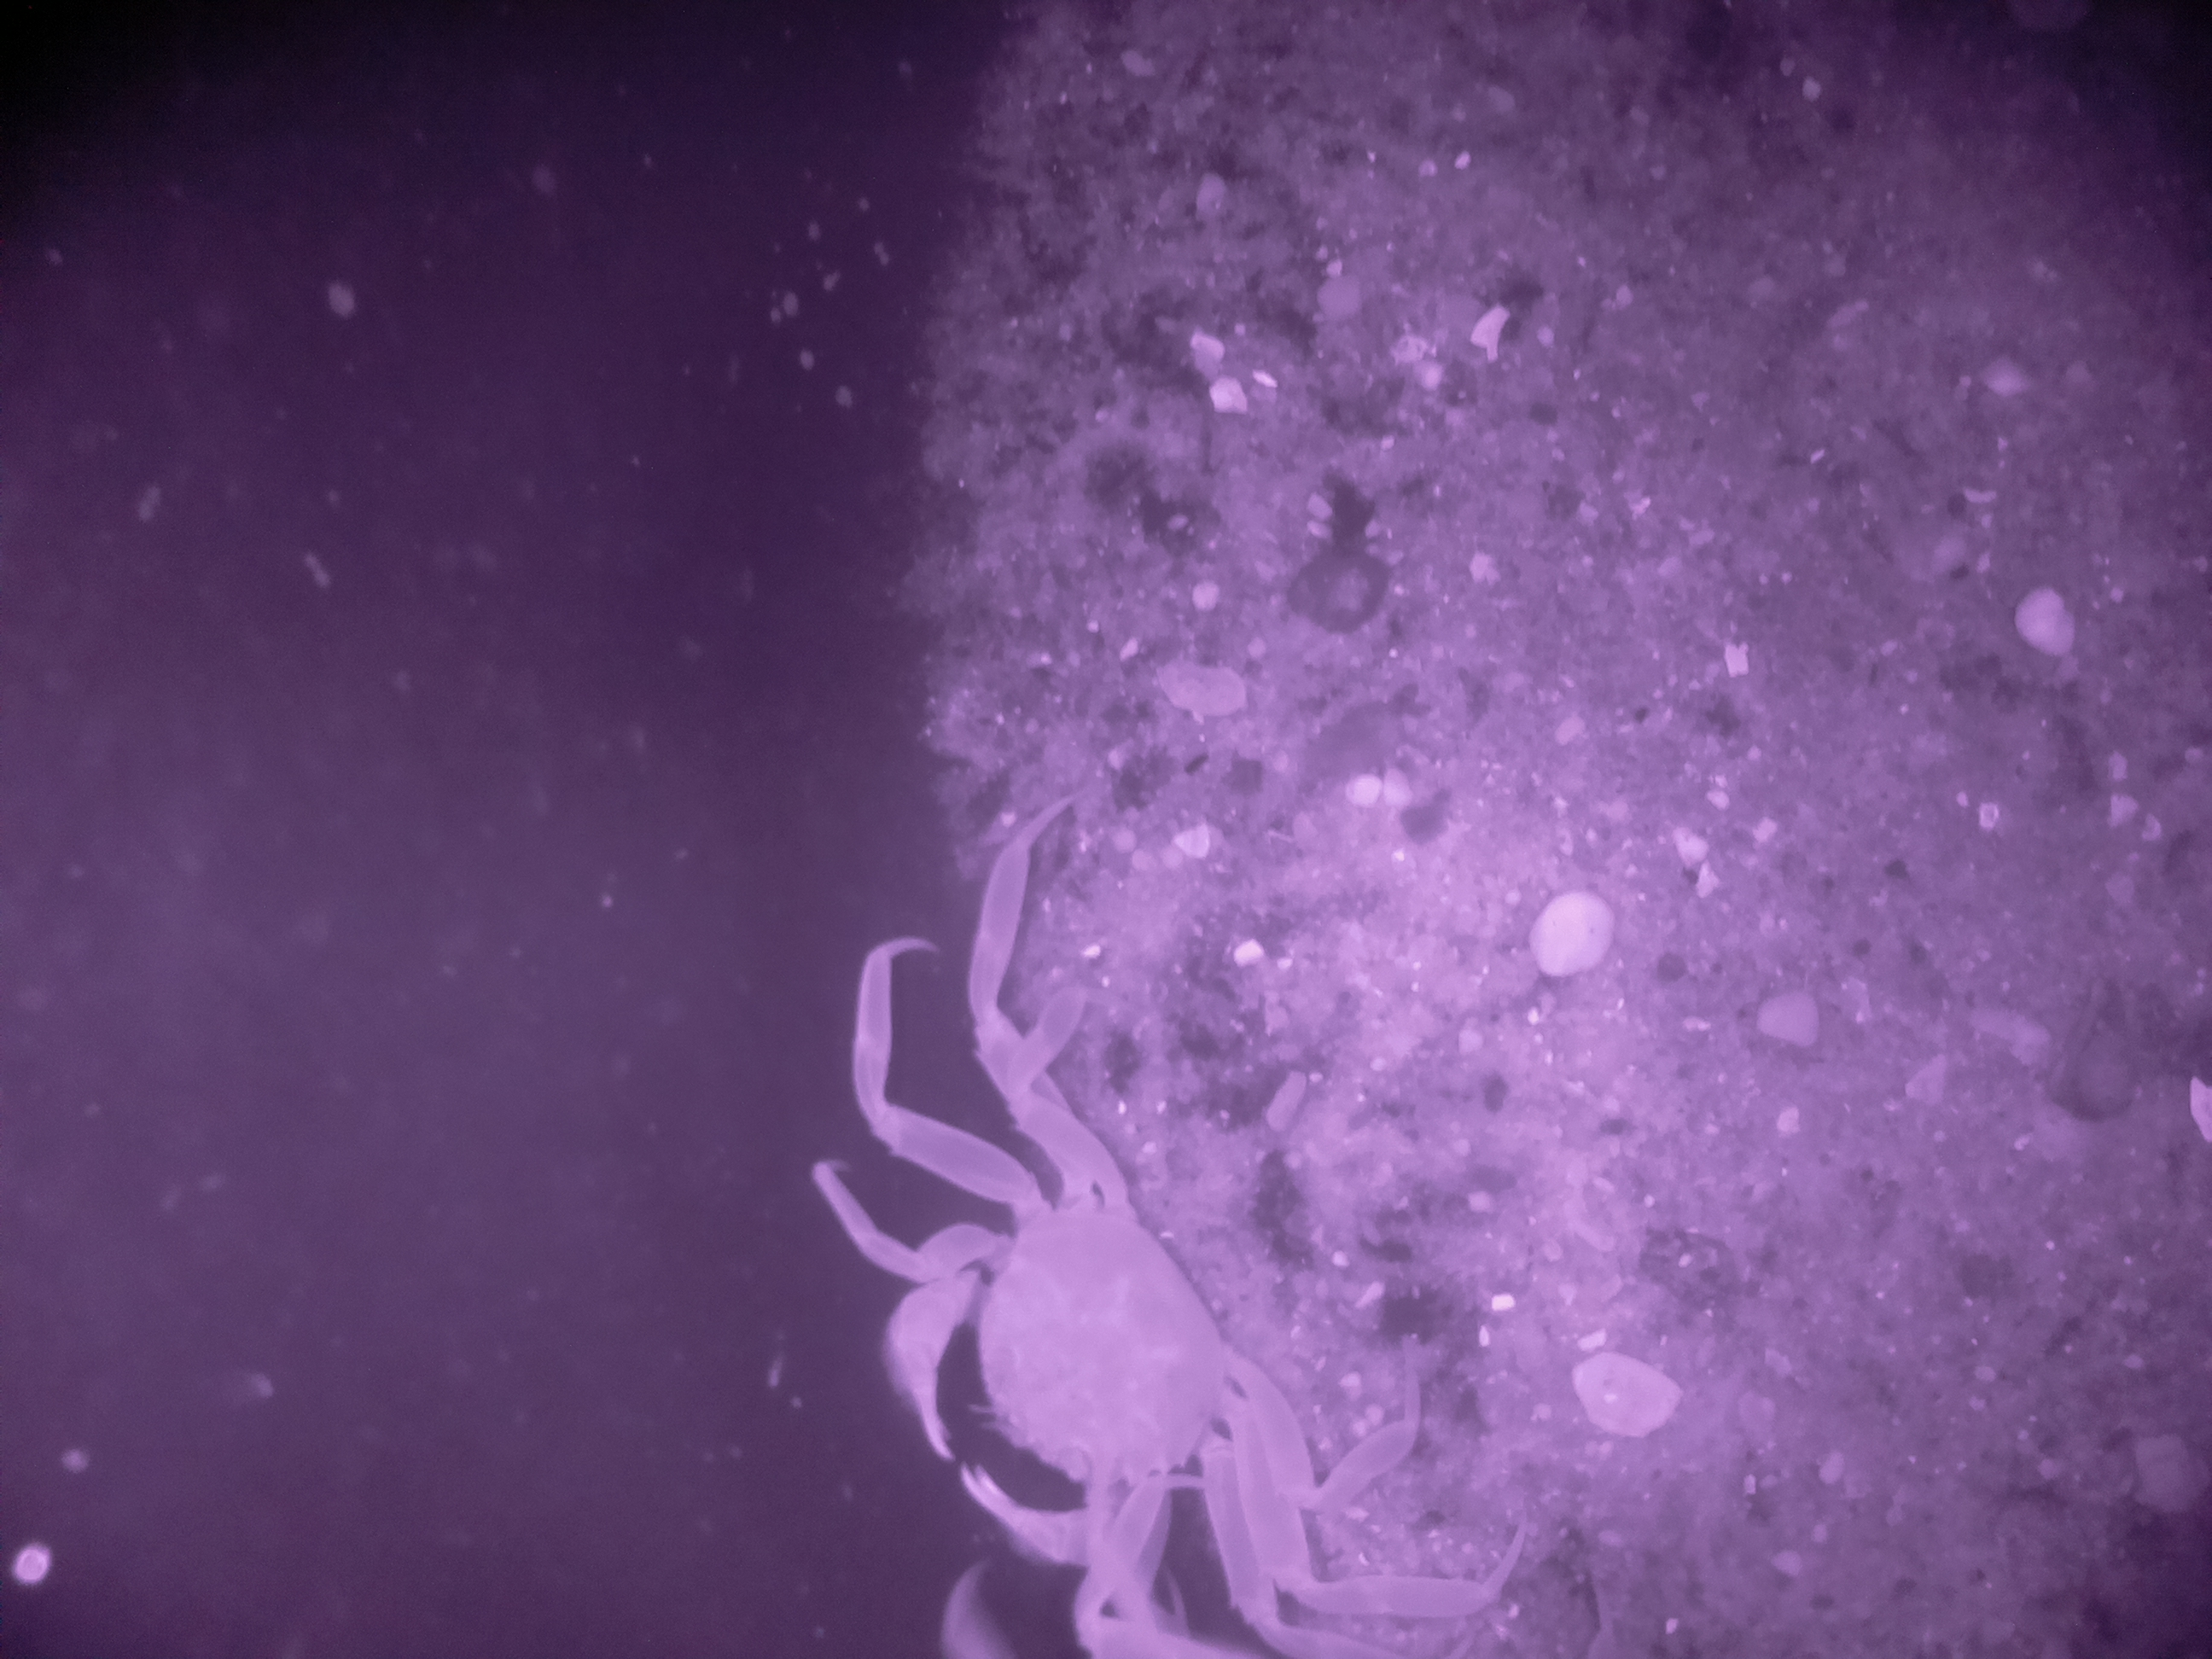Crab: (810, 1086, 1376, 1628)
